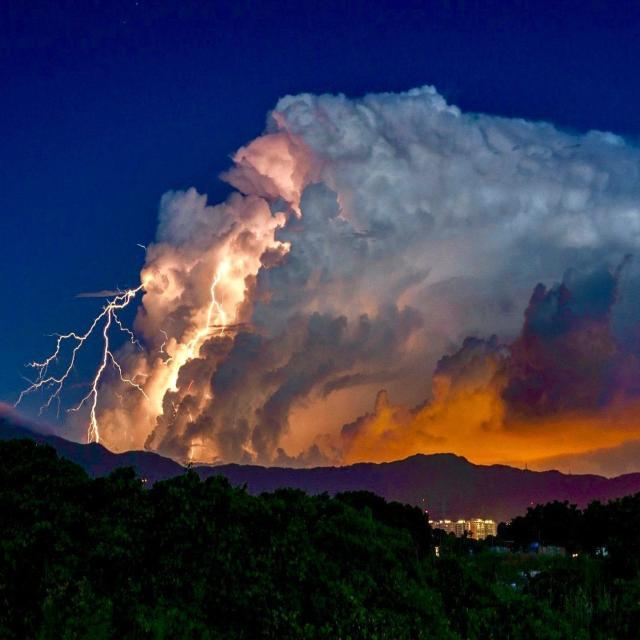cumulonimbus: (44, 71, 640, 472)
